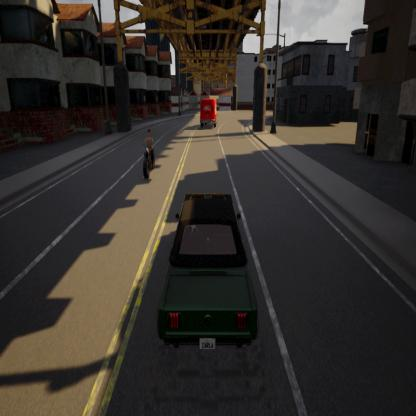Cars: (152, 180, 267, 363), (196, 94, 222, 133)
